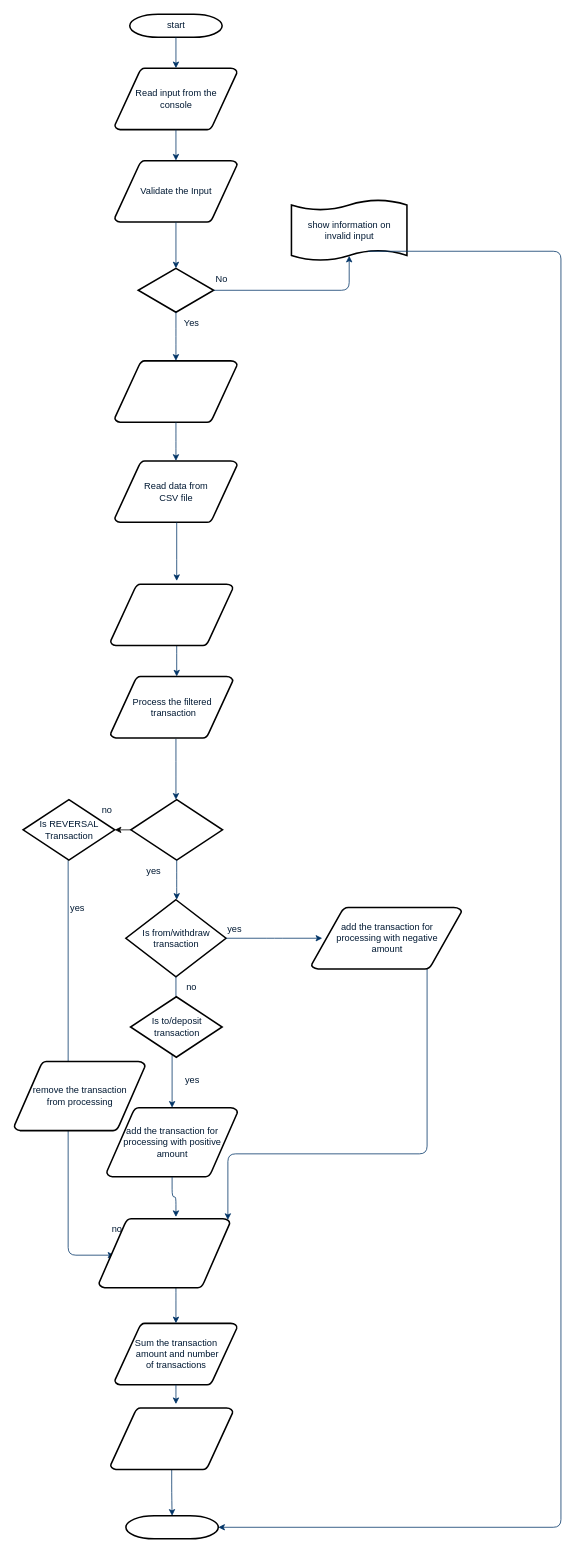
This 581x1552 diagram has some shape labels left out. Each missing label, with the centre of its shape:
CSV parser is called: the point at 176,391
end: the point at 172,1527
Filter the data based on the criteria: the point at 171,614
Is Payment Transaction: the point at 176,829
Is valid Input: the point at 175,290
Show output on the console: the point at 171,1438
Transactions to process for relative balance: the point at 164,1252
